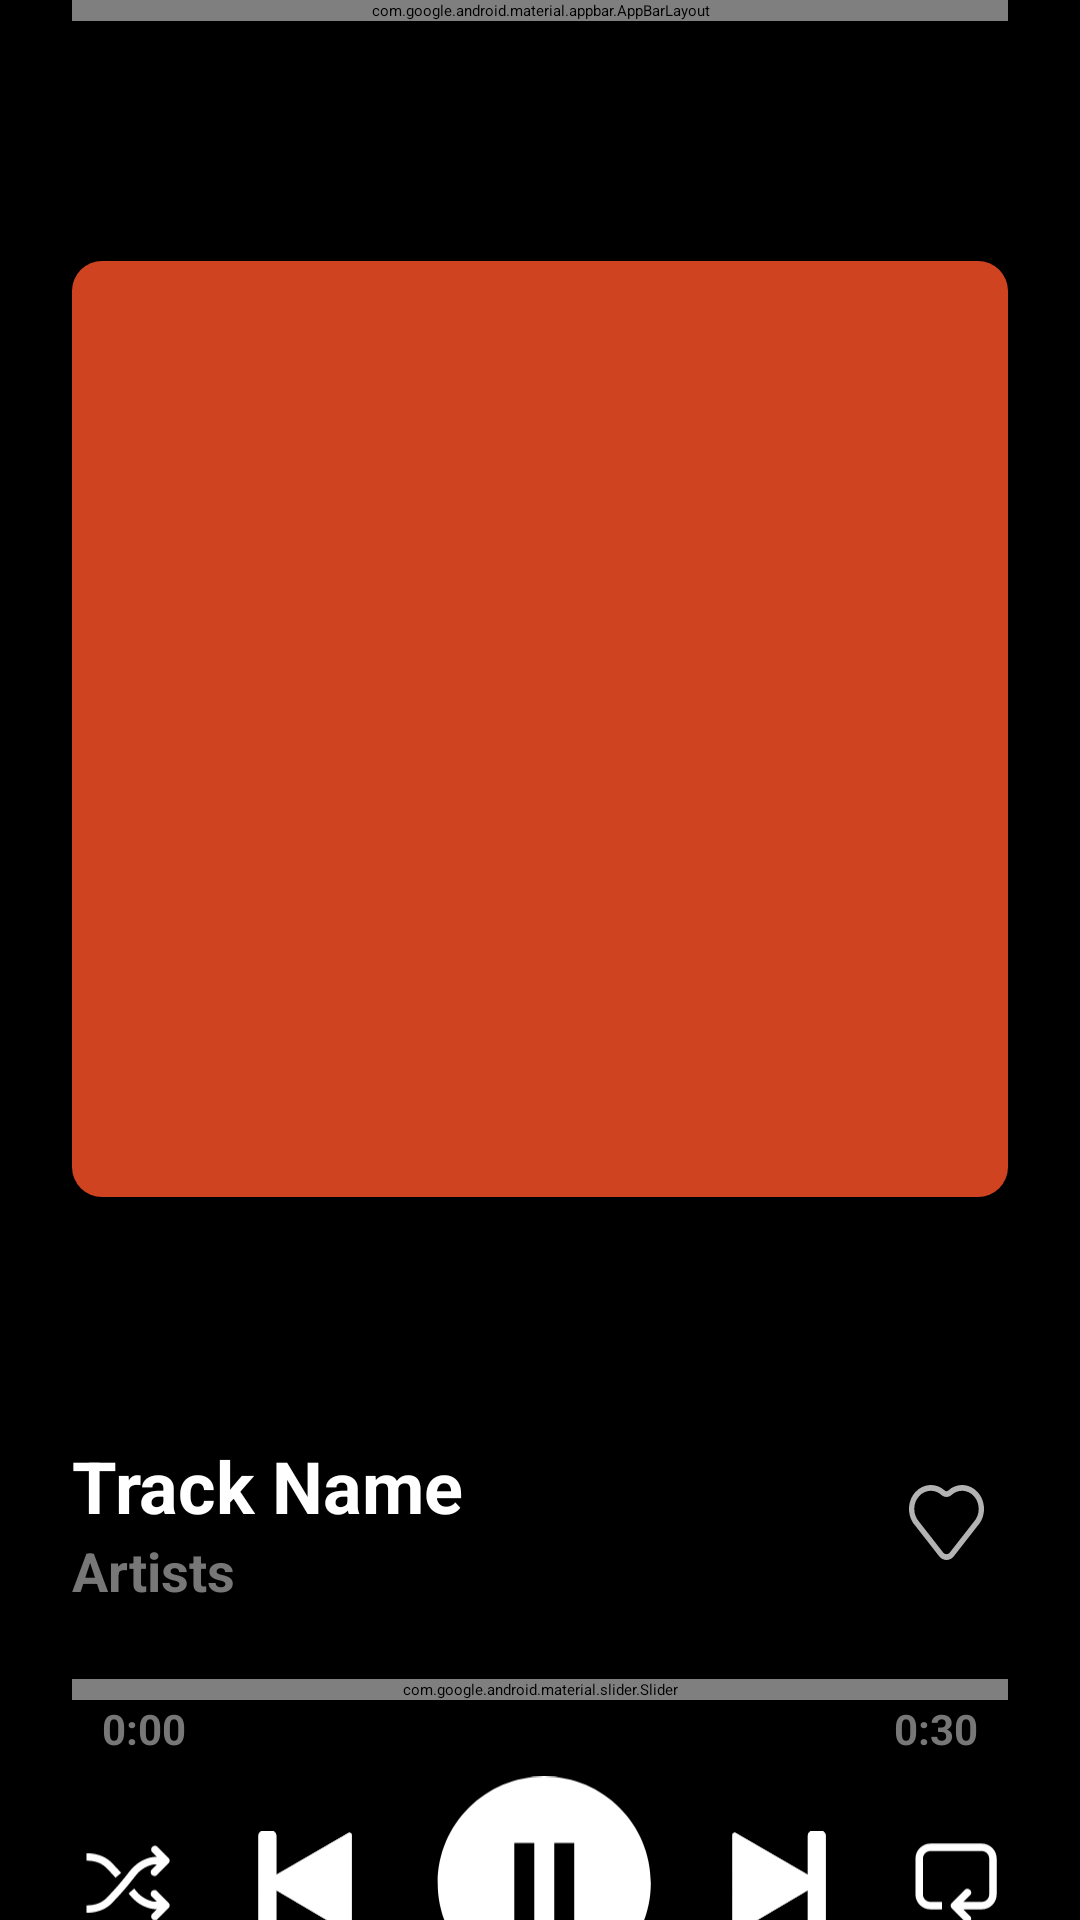

Icon bounding boxes for this 1080×1920 phone screenshot, format (x1, y1, x2, y2):
like: (909, 1485, 984, 1560)
